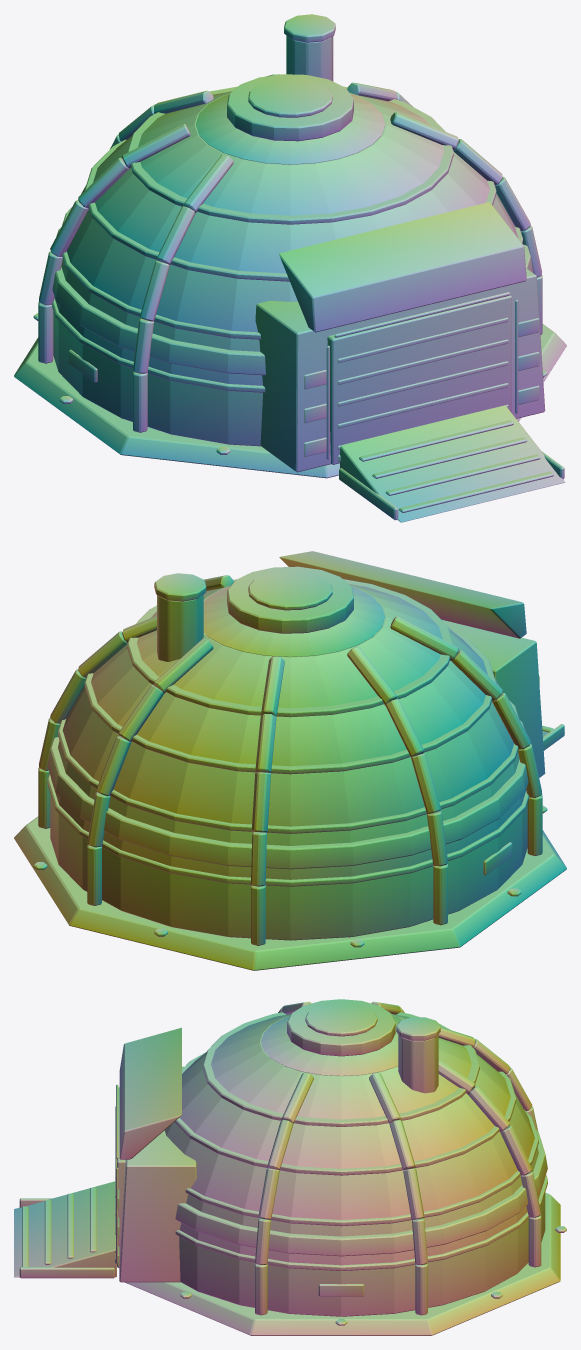
The model's file is factory_tank_rig.glb.
3 renders of one model, top to bottom at view 1: azimuth 30°, elevation 25°; view 2: azimuth 150°, elevation 25°; view 3: azimuth 270°, elevation 25°, orthographic. The views are drawn at different scales.
Visible parts, largest first — view 1: body, door; view 2: body; view 3: body, door.
Boxes of the visible parts, x1,y1,x2,y2 form: body: (14, 14, 566, 522); door: (328, 295, 511, 464); body: (14, 551, 566, 970); body: (14, 999, 566, 1335); door: (115, 1087, 123, 1267).
Size of the model in its own units: 19.88 by 11.9 by 24.41.
